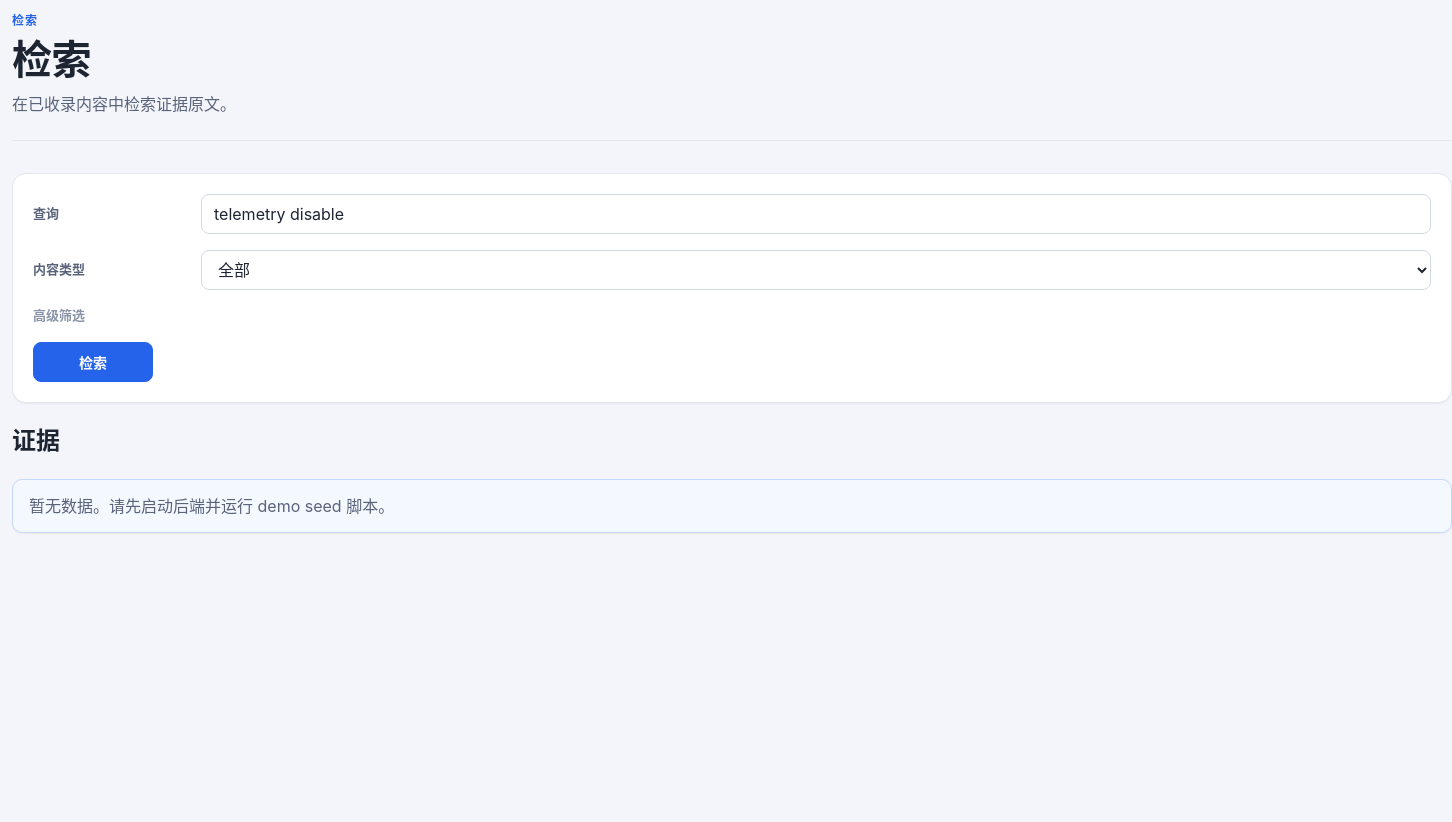
Test: SearchPage › renders evidence card and query trace after a successful search
Click the button "检索": point(93, 362) left=33, top=342, right=153, bottom=382
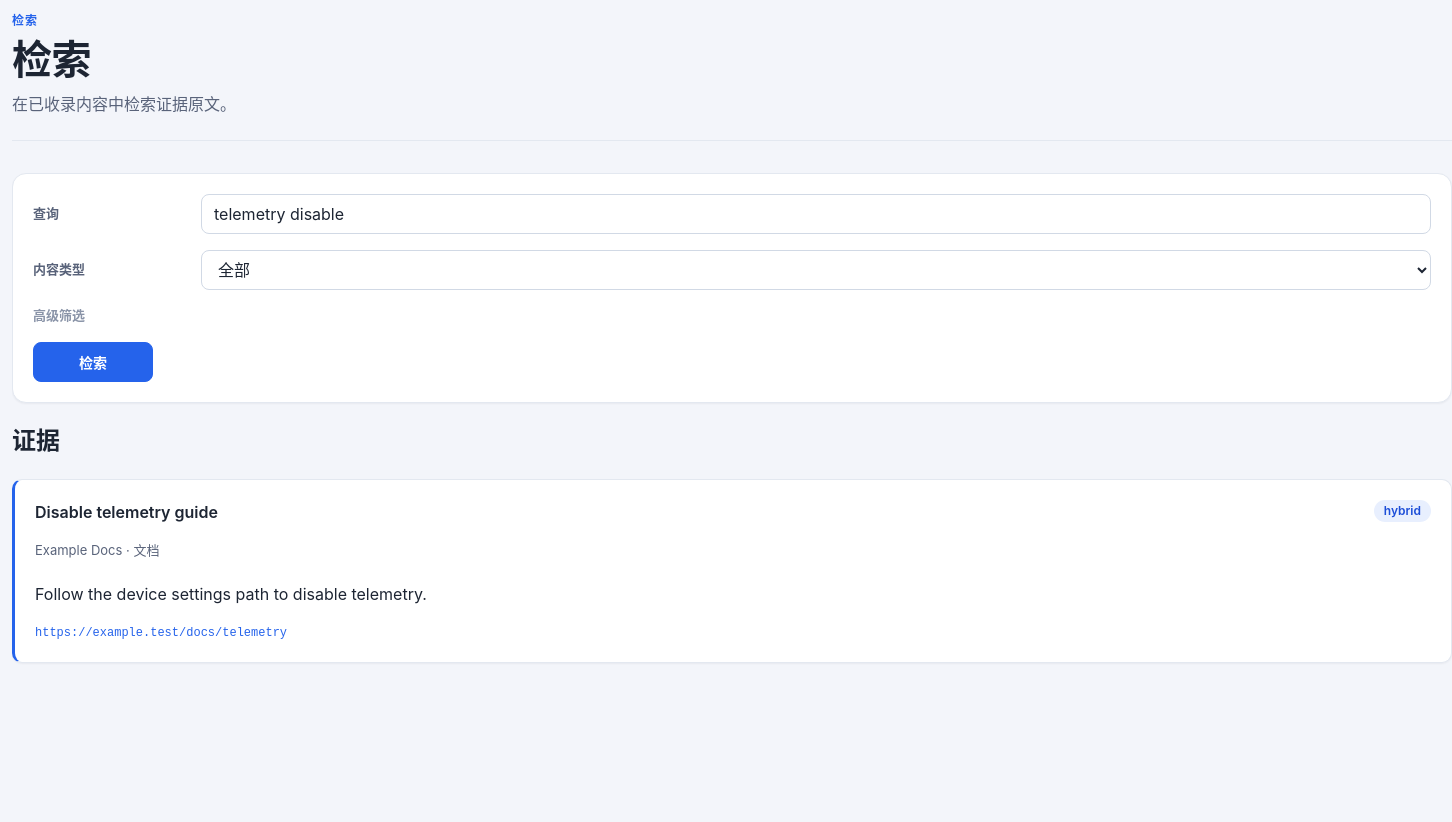
Check: the heading "Disable telemetry guide" is shown, box left=35, top=500, right=218, bottom=524
Check: the text "Follow the device settings path to disable telemetry." is shown, box left=35, top=584, right=427, bottom=604
Check: the text "暂无数据。请先启动后端并运行 demo seed 脚本。" is gone
